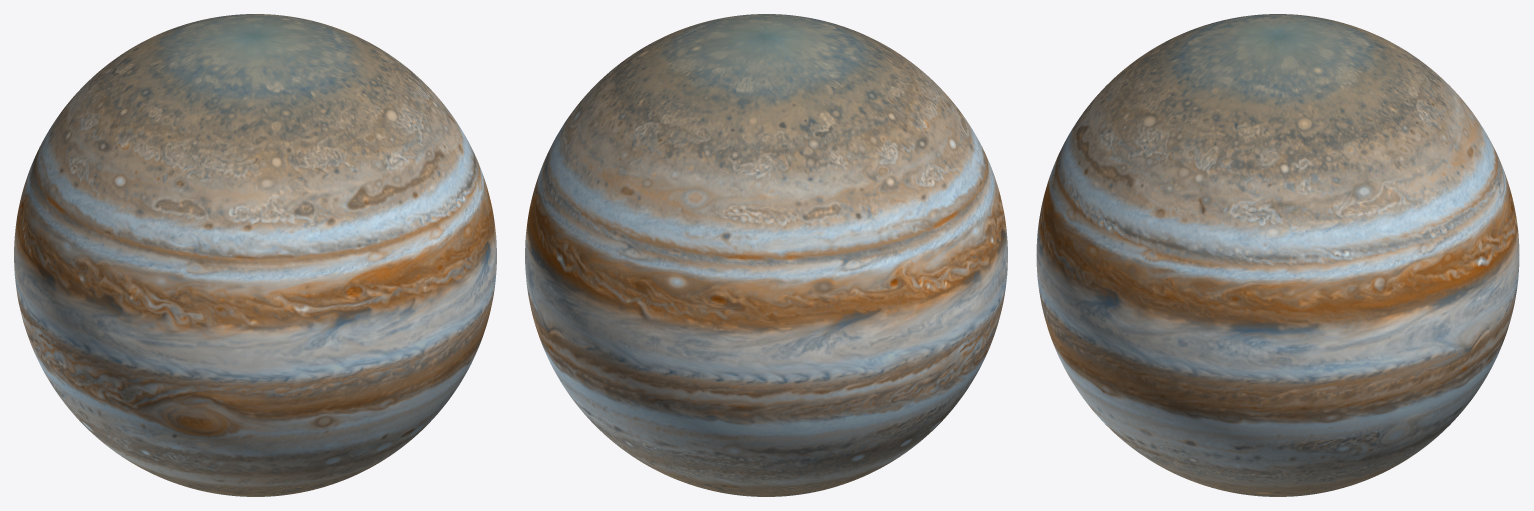
Rendered from jupiter.glb.
3 renders of one model, left to right at view 1: azimuth 30°, elevation 25°; view 2: azimuth 150°, elevation 25°; view 3: azimuth 270°, elevation 25°, orthographic.
Parts seen in each view (by area): view 1: Object_2; view 2: Object_2; view 3: Object_2.
Boxes of the visible parts, x1,y1,x2,y2 form: Object_2: (14,14,496,496); Object_2: (525,14,1007,496); Object_2: (1036,14,1519,496).
Size of the model in its own units: 2 by 2 by 2.
Materials: 1 (1 with a texture image).
